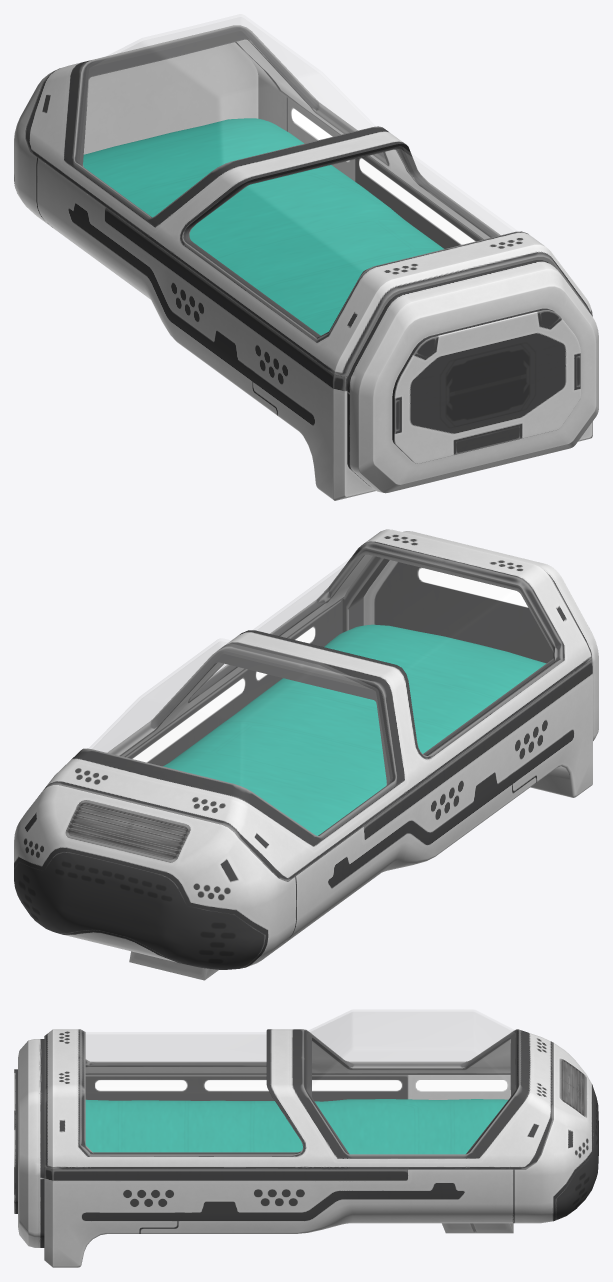
Rendered from MedCryoPod02.FBX.
3 renders of one model, top to bottom at view 1: azimuth 30°, elevation 25°; view 2: azimuth 150°, elevation 25°; view 3: azimuth 270°, elevation 25°, orthographic. The views are drawn at different scales.
Visible parts, largest first — view 1: Base, Cover; view 2: Base, Cover; view 3: Base, Cover.
Boxes of the visible parts, <box> form: Base: <box>14,42,598,500</box>; Cover: <box>25,14,591,376</box>; Base: <box>14,531,598,980</box>; Cover: <box>39,529,591,881</box>; Base: <box>14,1039,598,1267</box>; Cover: <box>44,1010,553,1169</box>.
Size of what is drawn, in the model's own units: 1.11 by 1.01 by 2.8.
